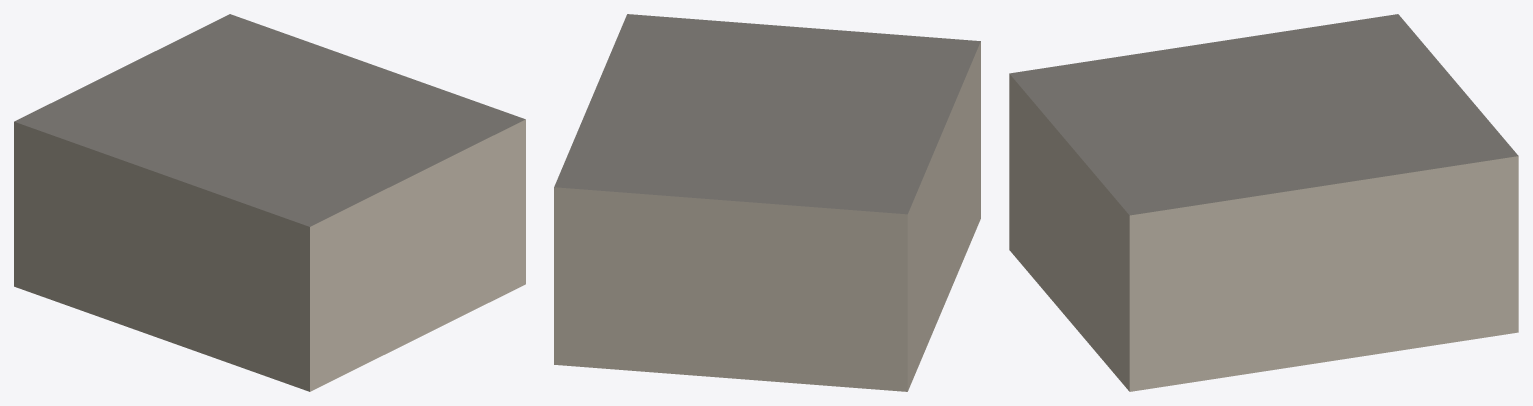
3 renders of one model, left to right at view 1: azimuth 30°, elevation 25°; view 2: azimuth 150°, elevation 25°; view 3: azimuth 270°, elevation 25°, orthographic. The views are drawn at different scales.
Visible parts, largest first — view 1: HP-w372180430; view 2: HP-w372180430; view 3: HP-w372180430.
Boxes of the visible parts, left/top/right/bottom form: HP-w372180430: left=14, top=14, right=525, bottom=391; HP-w372180430: left=554, top=14, right=980, bottom=391; HP-w372180430: left=1009, top=14, right=1518, bottom=391.
Bounding box in the file's own units: 44.09 × 18 × 47.1.
